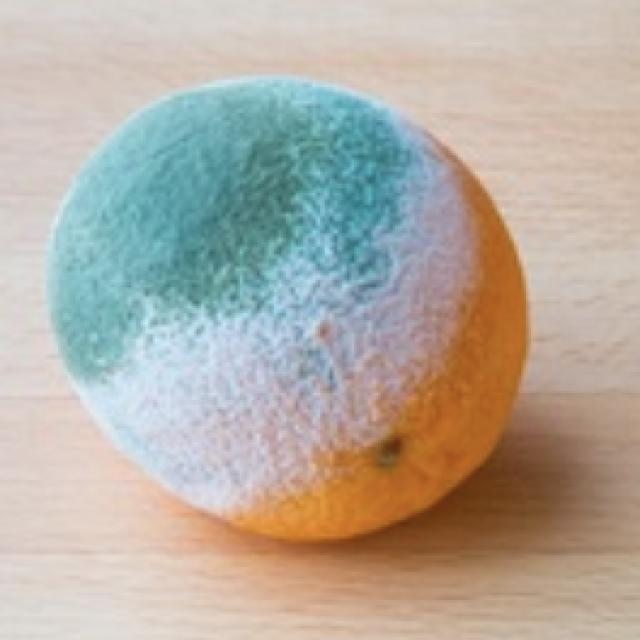orange: (49, 78, 526, 538)
